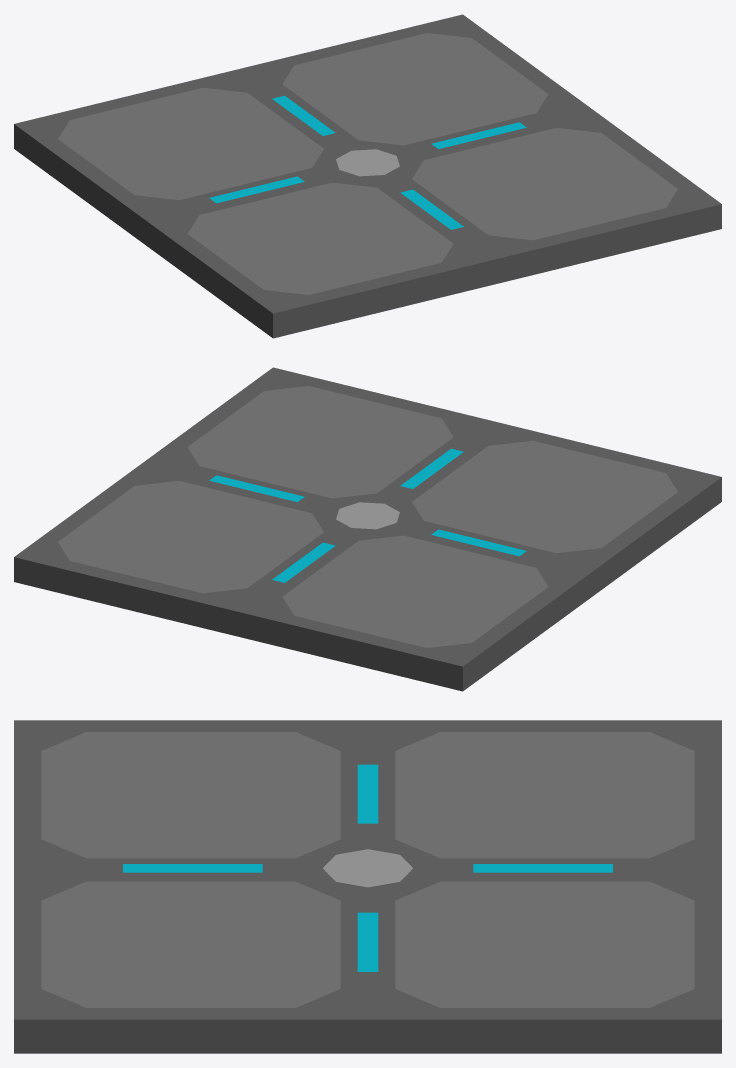
The model's file is tile_platform_005.fbx.
3 renders of one model, top to bottom at view 1: azimuth 30°, elevation 25°; view 2: azimuth 150°, elevation 25°; view 3: azimuth 270°, elevation 25°, orthographic. The views are drawn at different scales.
Visible parts, largest first — view 1: tile_platform_005; view 2: tile_platform_005; view 3: tile_platform_005.
Boxes of the visible parts, x1,y1,x2,y2 form: tile_platform_005: [14, 14, 721, 338]; tile_platform_005: [14, 367, 721, 691]; tile_platform_005: [14, 720, 721, 1053].
Size of the model in its own units: 400 by 400 by 22.26.
